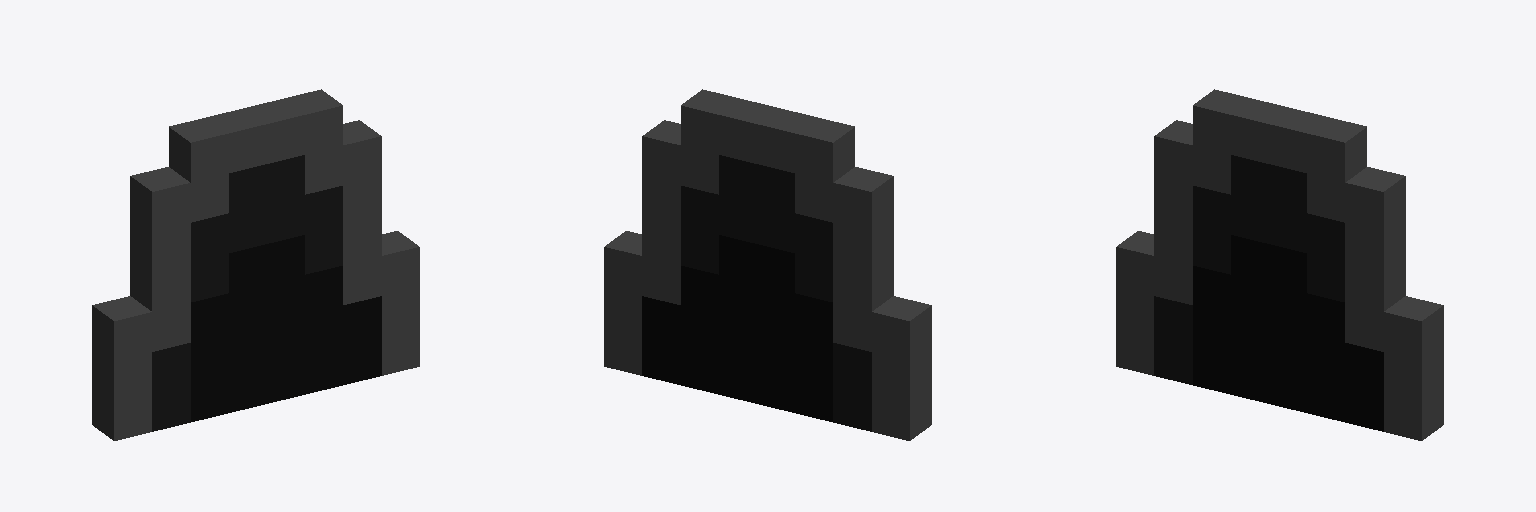
The picture shows the model from 3 angles: view 1: azimuth 30°, elevation 25°; view 2: azimuth 150°, elevation 25°; view 3: azimuth 330°, elevation 25°; orthographic projection.
Parts seen in each view (by area): view 1: object 1; view 2: object 1; view 3: object 1.
Part boxes in pixels (x1,y1,x2,y2): object 1: (92,89,419,440); object 1: (604,89,931,440); object 1: (1116,89,1443,440).
Size of the model in its own units: 0.8 by 0.7 by 0.1.
Materials: 1 (1 with a texture image).